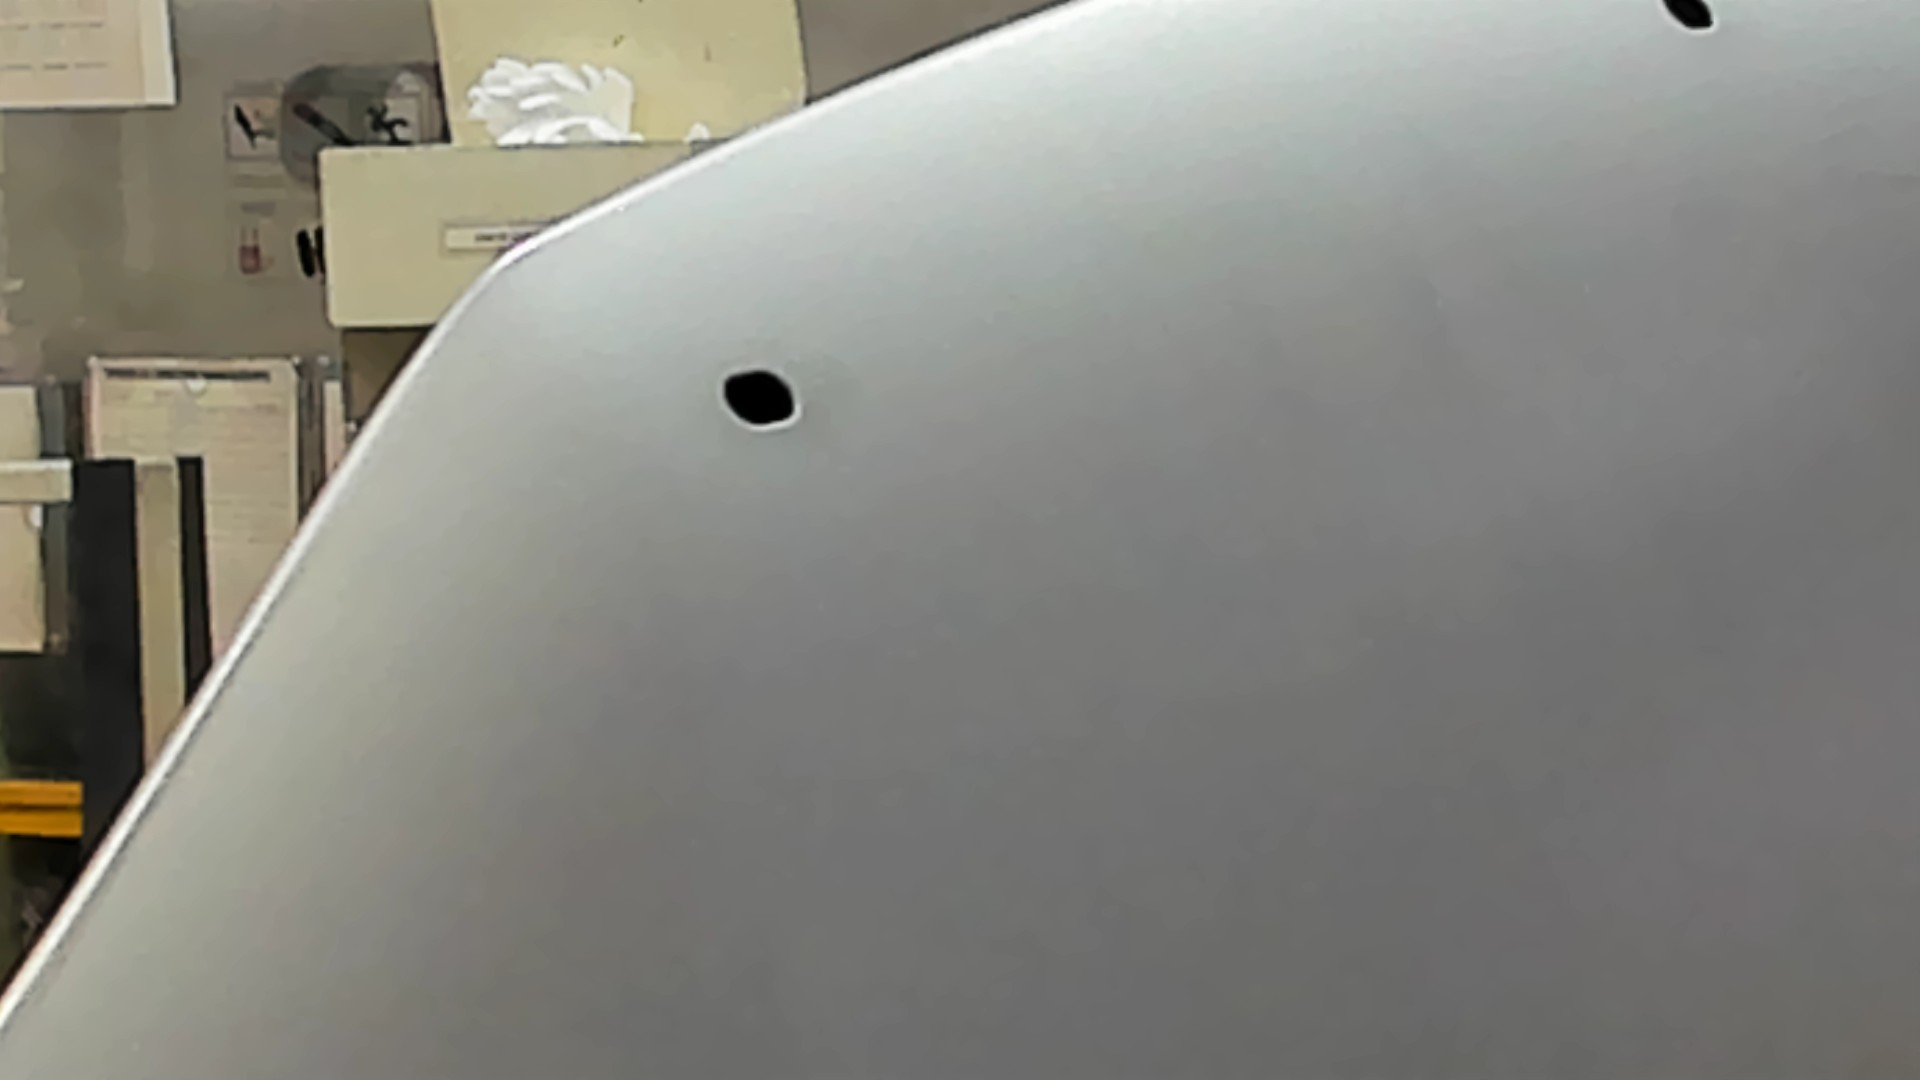Agujero: (713, 359, 807, 436), (1651, 1, 1726, 42)
